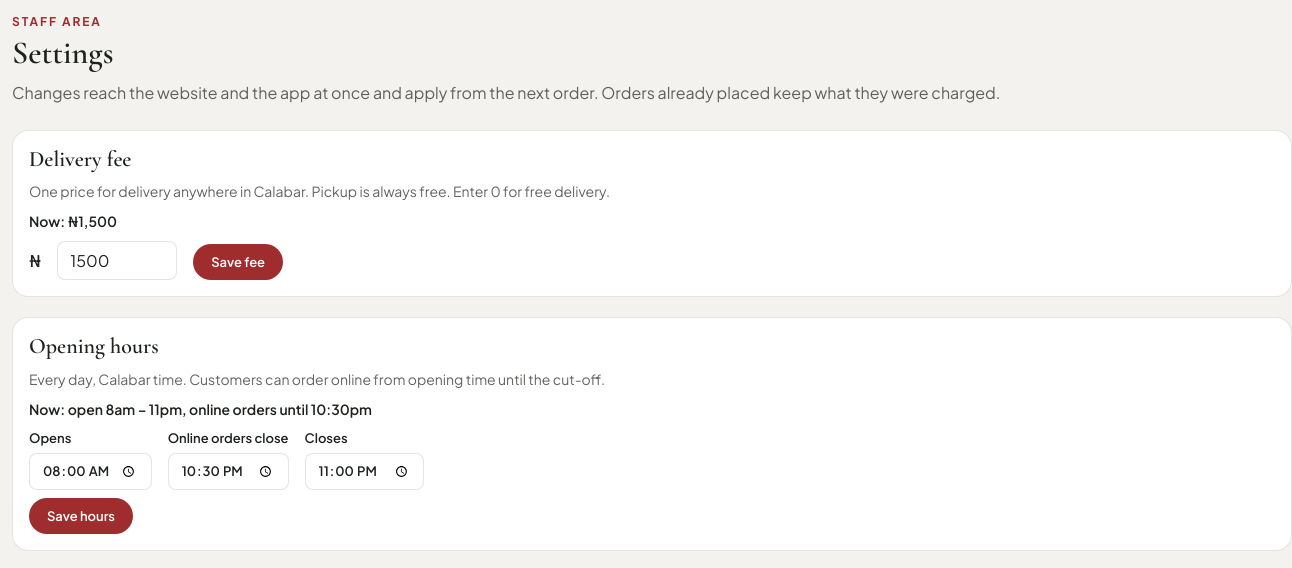
AdminSettingsView › delivery fee › saves the fee in kobo and confirms it
Replace the text in the field with test id "fee" with "₦2,000.50" at (117, 260), box [57,241,177,280]
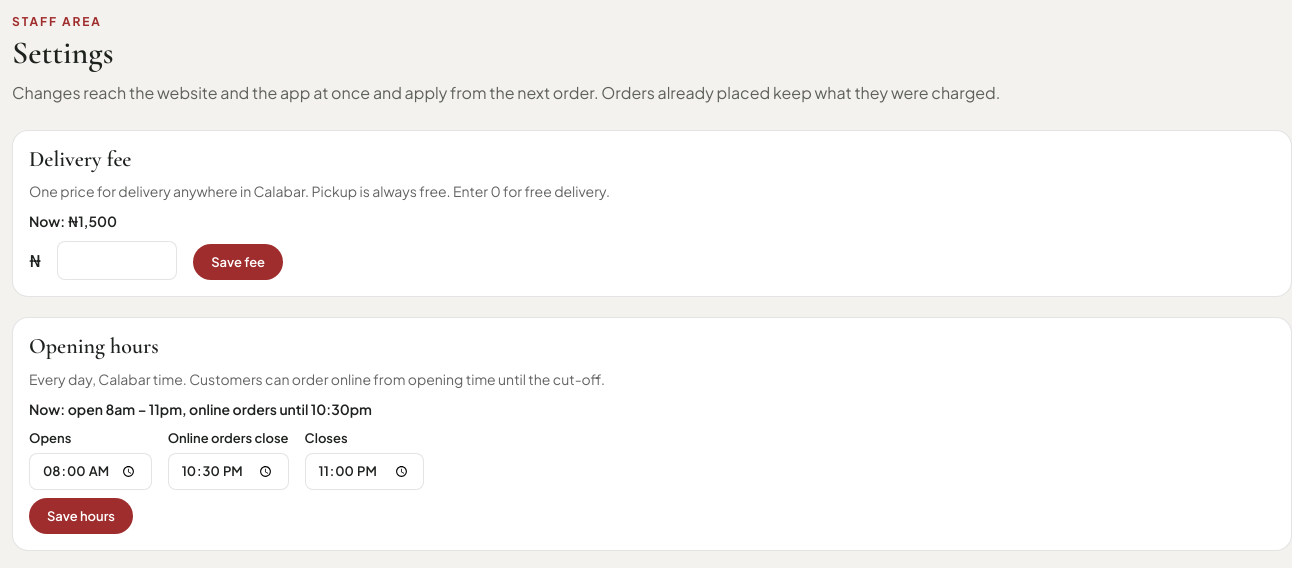
Submit the form with test id "fee-form", box [12,130,1291,297]
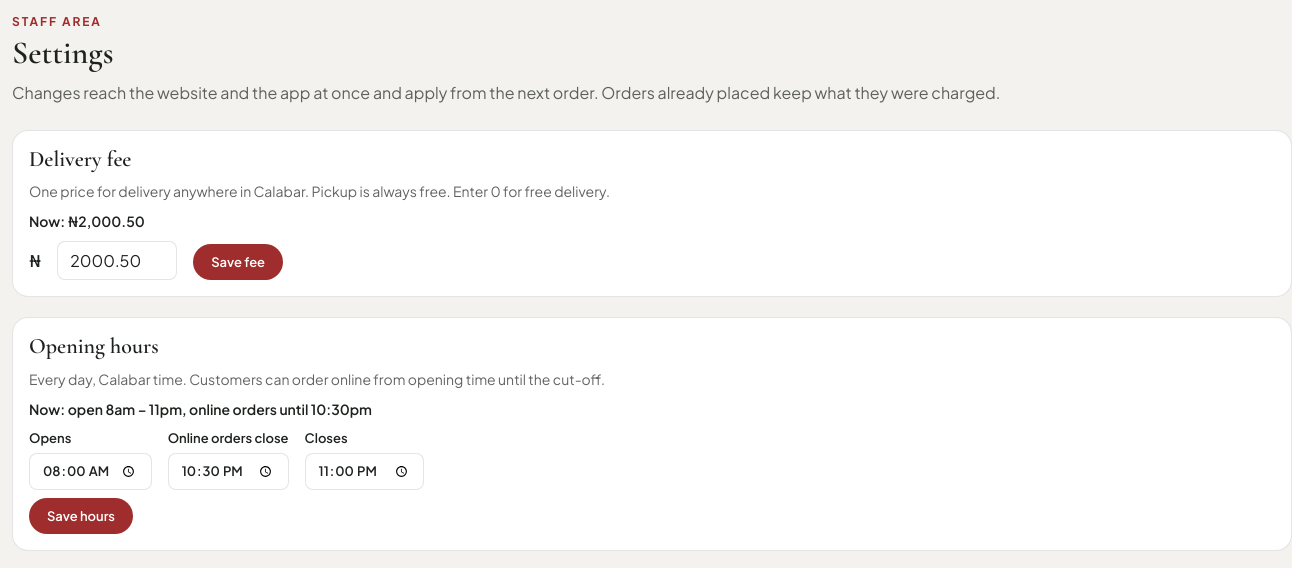
Expected: the text with test id "current-fee" reads "Now: ₦2,000.50", [29,212,145,230]
